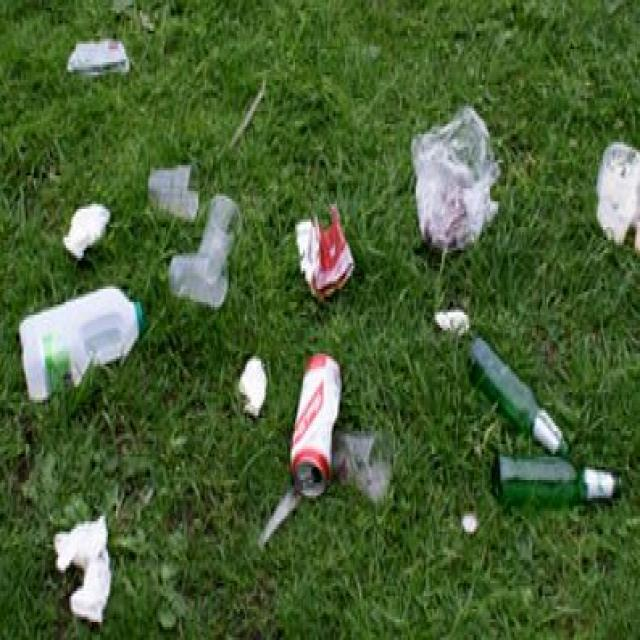metal: (288, 342, 357, 507)
paper: (47, 515, 135, 632), (62, 21, 146, 102), (233, 344, 276, 437), (54, 200, 116, 262)
plastic: (9, 274, 161, 394), (388, 118, 509, 256), (150, 164, 250, 300), (588, 126, 640, 248), (298, 209, 359, 296), (361, 411, 398, 518)
